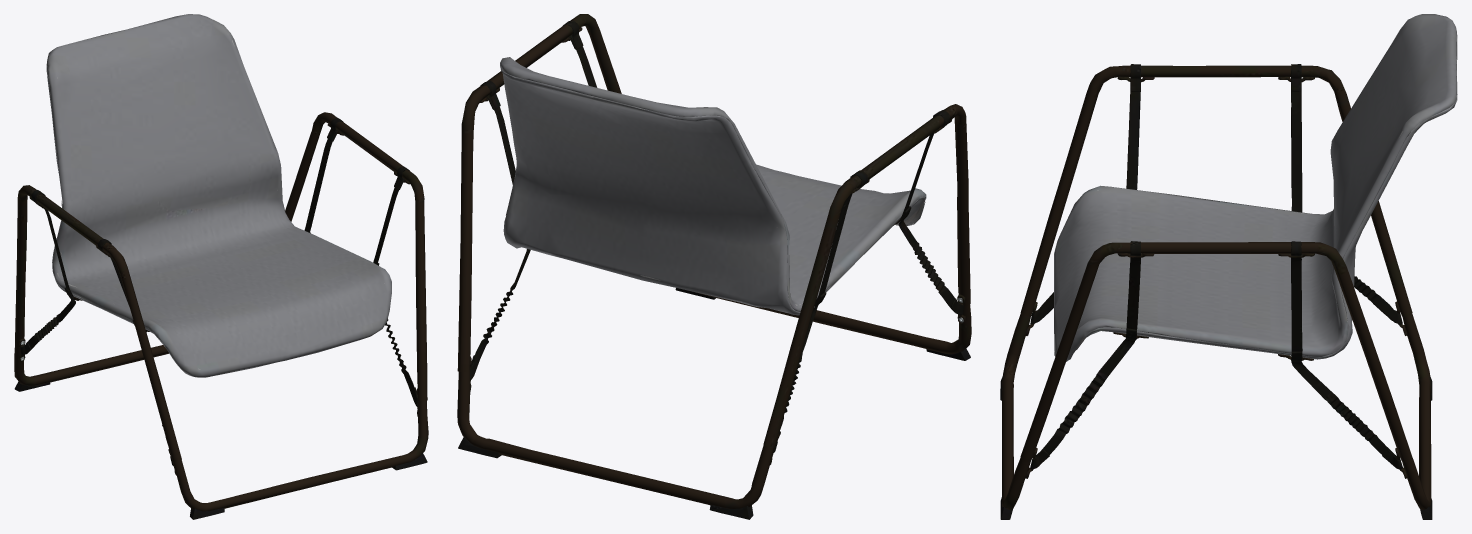
File: 07 - BRÄNNBOLL Gaming easy chair - greyblack.glb
3 views of the same model, side by side, from view 1: azimuth 30°, elevation 25°; view 2: azimuth 150°, elevation 25°; view 3: azimuth 270°, elevation 25° (orthographic). The views are drawn at different scales.
Visible parts, largest first — view 1: ASY_ART_00586336_S01_NV01; view 2: ASY_ART_00586336_S01_NV01; view 3: ASY_ART_00586336_S01_NV01.
Part boxes in pixels (<box>): ASY_ART_00586336_S01_NV01: <box>14,14,428,519</box>; ASY_ART_00586336_S01_NV01: <box>457,14,971,519</box>; ASY_ART_00586336_S01_NV01: <box>1000,14,1457,519</box>.
Bounding box in the file's own units: 0.8285 × 0.8316 × 0.8758.
Materials: 1 (1 with a texture image).
